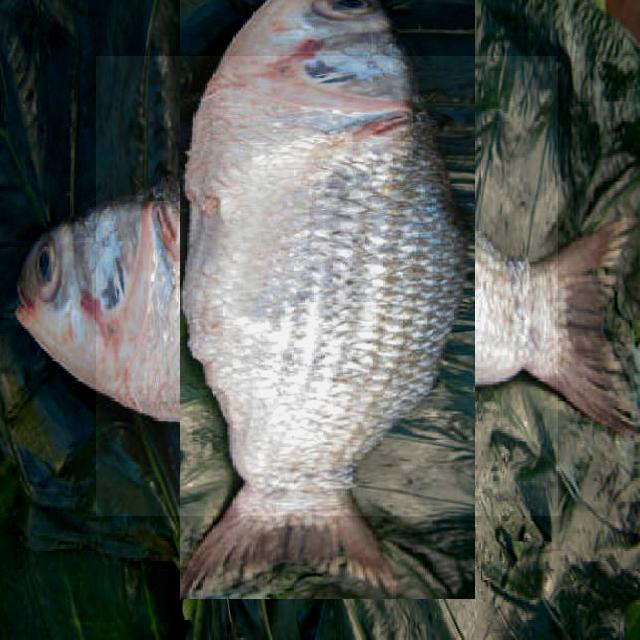EUS Disease: (96, 56, 558, 516)
